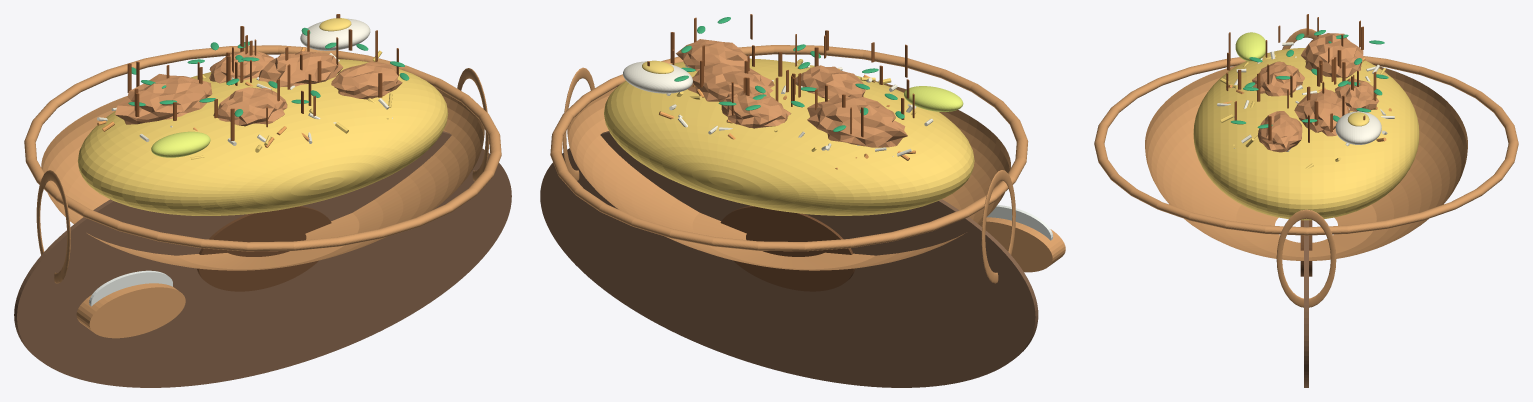
Rendered from biryani_plate_3d.glb.
The picture shows the model from 3 angles, left to right: view 1: azimuth 30°, elevation 25°; view 2: azimuth 150°, elevation 25°; view 3: azimuth 270°, elevation 25°; orthographic projection. The views are drawn at different scales.
Parts seen in each view (by area): view 1: round serving plate under bowl, saffron rice mound, copper serving handi bowl, thick copper rim, bowl foot ring, small raita bowl, 3d spiced chicken chunk 1, 3d spiced chicken chunk 3, 3d spiced chicken chunk 2, 3d spiced chicken chunk 4, half boiled egg white, lemon wedge garnish (+4 smaller); view 2: round serving plate under bowl, saffron rice mound, copper serving handi bowl, thick copper rim, bowl foot ring, 3d spiced chicken chunk 1, small raita bowl, 3d spiced chicken chunk 3, 3d spiced chicken chunk 5, 3d spiced chicken chunk 2, half boiled egg white, 3d spiced chicken chunk 4 (+4 smaller); view 3: saffron rice mound, copper serving handi bowl, thick copper rim, 3d spiced chicken chunk 1, right copper handle loop, 3d spiced chicken chunk 3, 3d spiced chicken chunk 4, 3d spiced chicken chunk 2, half boiled egg white, 3d spiced chicken chunk 5, round serving plate under bowl, lemon wedge garnish.
Part boxes in pixels (left/top/right/bottom): round serving plate under bowl: left=14, top=131, right=511, bottom=387; saffron rice mound: left=78, top=59, right=448, bottom=215; copper serving handi bowl: left=41, top=87, right=484, bottom=270; thick copper rim: left=24, top=45, right=501, bottom=251; bowl foot ring: left=197, top=206, right=331, bottom=291; small raita bowl: left=76, top=283, right=185, bottom=338; 3d spiced chicken chunk 1: left=115, top=74, right=212, bottom=124; 3d spiced chicken chunk 3: left=258, top=51, right=343, bottom=87; 3d spiced chicken chunk 2: left=213, top=87, right=287, bottom=126; 3d spiced chicken chunk 4: left=331, top=61, right=402, bottom=99; half boiled egg white: left=300, top=18, right=370, bottom=50; lemon wedge garnish: left=151, top=131, right=210, bottom=157; round serving plate under bowl: left=540, top=131, right=1038, bottom=387; saffron rice mound: left=604, top=58, right=974, bottom=215; copper serving handi bowl: left=567, top=81, right=1010, bottom=270; thick copper rim: left=550, top=45, right=1028, bottom=251; bowl foot ring: left=720, top=206, right=855, bottom=291; 3d spiced chicken chunk 1: left=807, top=93, right=907, bottom=147; small raita bowl: left=978, top=217, right=1065, bottom=272; 3d spiced chicken chunk 3: left=687, top=63, right=774, bottom=101; 3d spiced chicken chunk 5: left=719, top=90, right=790, bottom=128; 3d spiced chicken chunk 2: left=795, top=65, right=865, bottom=98; half boiled egg white: left=623, top=61, right=692, bottom=93; 3d spiced chicken chunk 4: left=676, top=39, right=750, bottom=71; saffron rice mound: left=1193, top=48, right=1419, bottom=220; copper serving handi bowl: left=1145, top=65, right=1467, bottom=260; thick copper rim: left=1094, top=56, right=1518, bottom=235; 3d spiced chicken chunk 1: left=1301, top=33, right=1363, bottom=78; right copper handle loop: left=1276, top=209, right=1336, bottom=307; 3d spiced chicken chunk 3: left=1294, top=89, right=1349, bottom=136; 3d spiced chicken chunk 4: left=1258, top=111, right=1302, bottom=152; 3d spiced chicken chunk 2: left=1252, top=61, right=1304, bottom=96; half boiled egg white: left=1335, top=111, right=1381, bottom=144; 3d spiced chicken chunk 5: left=1335, top=78, right=1378, bottom=111; round serving plate under bowl: left=1304, top=220, right=1308, bottom=387; lemon wedge garnish: left=1235, top=32, right=1265, bottom=61.
Bounding box in the file's own units: 3.5 × 2.12 × 2.93.
